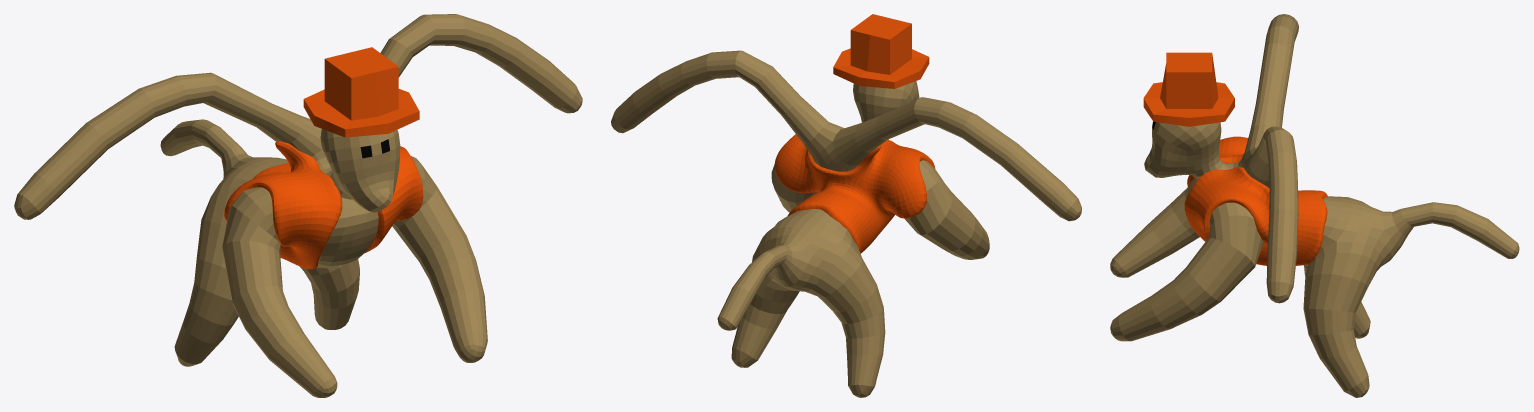
File: MonkeyPose2.fbx
3 views of the same model, side by side, from view 1: azimuth 30°, elevation 25°; view 2: azimuth 150°, elevation 25°; view 3: azimuth 270°, elevation 25° (orthographic). The views are drawn at different scales.
Visible parts, largest first — view 1: MonkeyV2_1_Group55565, vest2, pCube2; view 2: MonkeyV2_1_Group55565, vest2, pCube2; view 3: MonkeyV2_1_Group55565, vest2, pCube2.
Boxes of the visible parts, x1,y1,x2,y2 form: MonkeyV2_1_Group55565: (14, 14, 582, 397); vest2: (224, 141, 423, 269); pCube2: (303, 47, 419, 137); MonkeyV2_1_Group55565: (611, 50, 1081, 397); vest2: (774, 134, 935, 253); pCube2: (833, 14, 929, 88); MonkeyV2_1_Group55565: (1110, 14, 1519, 397); vest2: (1184, 136, 1327, 265); pCube2: (1143, 52, 1234, 126).
Bounding box in the file's own units: 11.3 × 6.81 × 8.24.
